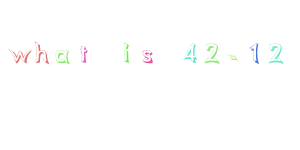-: (226, 51, 240, 63)
1: (248, 41, 261, 64)
2: (203, 42, 220, 64), (268, 42, 284, 64)
4: (183, 42, 197, 63)
a: (54, 49, 71, 64)
h: (34, 40, 50, 63)
i: (121, 42, 131, 62)
s: (141, 48, 154, 63)
t: (77, 44, 88, 62)
w: (8, 48, 32, 64)
